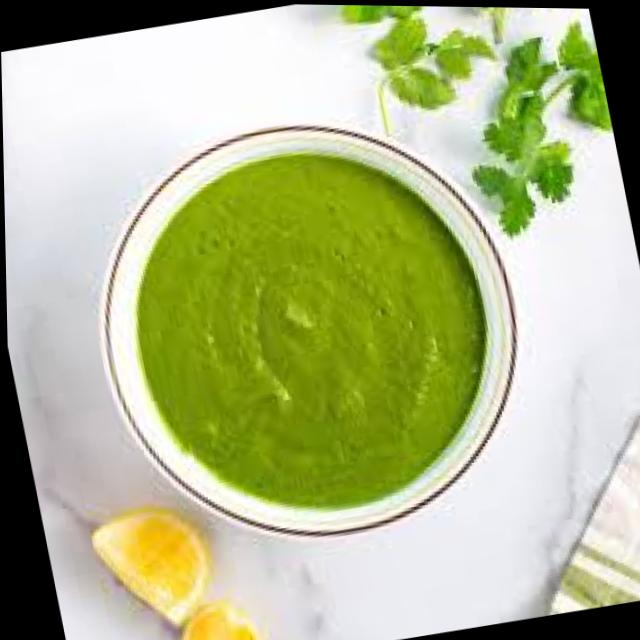GREEN CHUTNEY: (96, 103, 553, 547)
